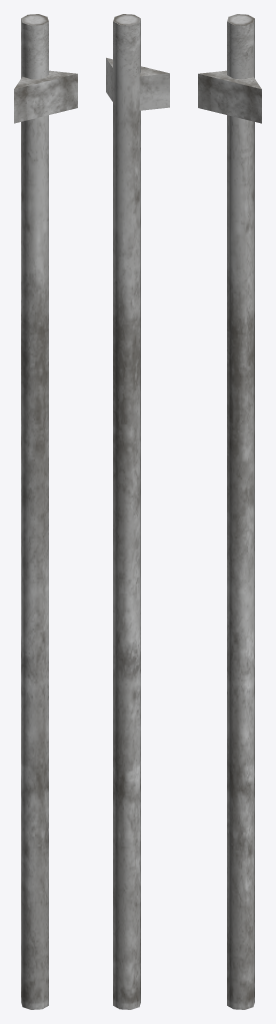
The model's file is PrpPoleSignA1B.fbx.
The picture shows the model from 3 angles, left to right: view 1: azimuth 30°, elevation 25°; view 2: azimuth 150°, elevation 25°; view 3: azimuth 330°, elevation 25°; orthographic projection.
Parts seen in each view (by area): view 1: PrpPoleSignA1B; view 2: PrpPoleSignA1B; view 3: PrpPoleSignA1B.
Part boxes in pixels (box(x1,y1,x2,y2)): PrpPoleSignA1B: box(14, 14, 77, 1009); PrpPoleSignA1B: box(106, 14, 169, 1009); PrpPoleSignA1B: box(198, 14, 261, 1009).
Size of the model in its own units: 12.82 by 189 by 6.3.
1 material, 1 textured.
